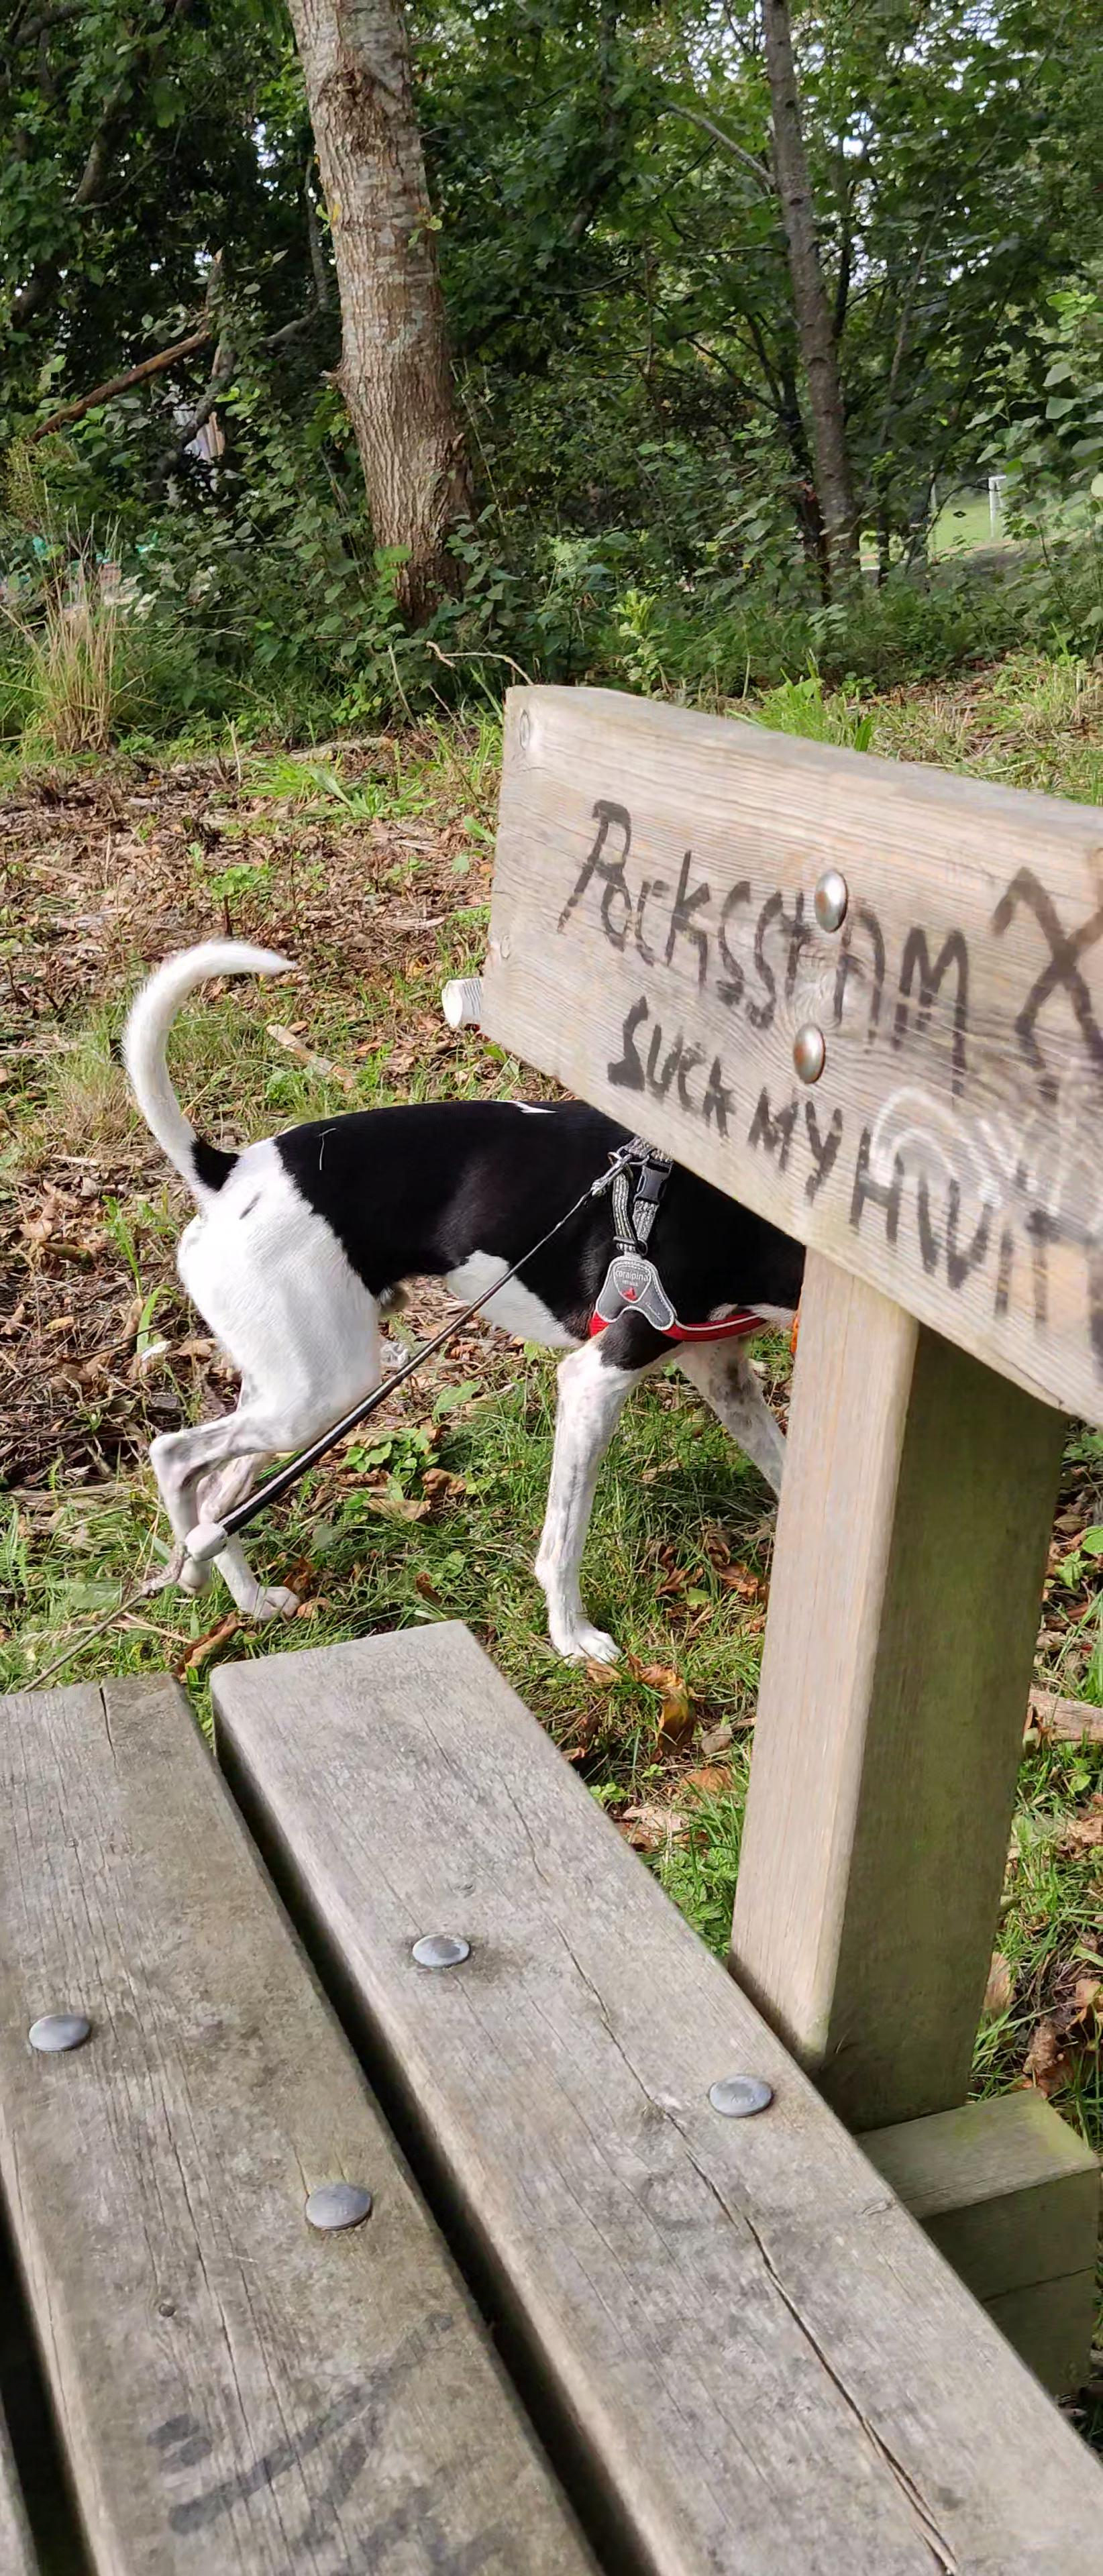Dog: (102, 925, 845, 1690)
